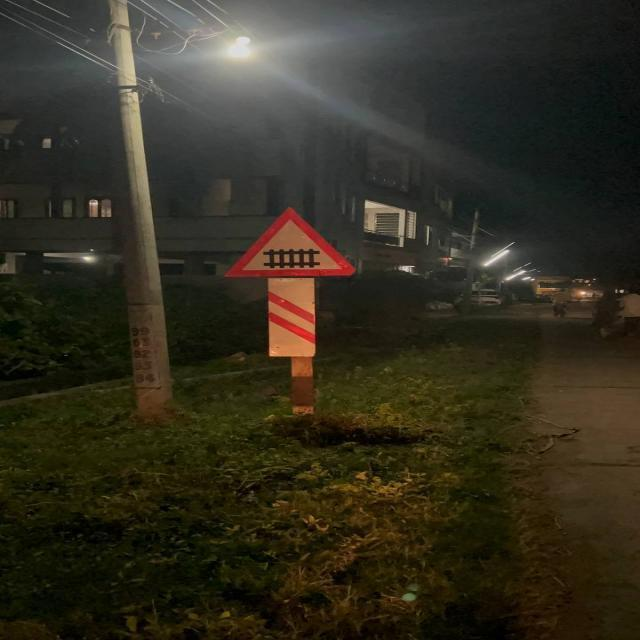guarded level crossing: (216, 204, 358, 281)
